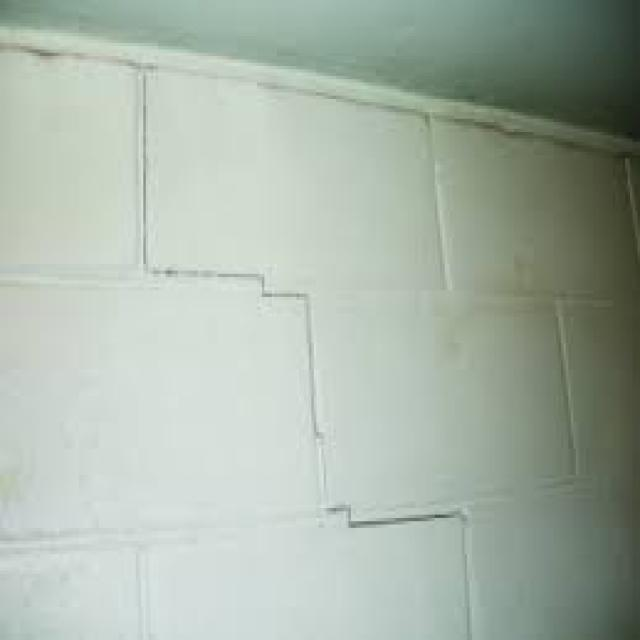Crack: (131, 63, 469, 636)
